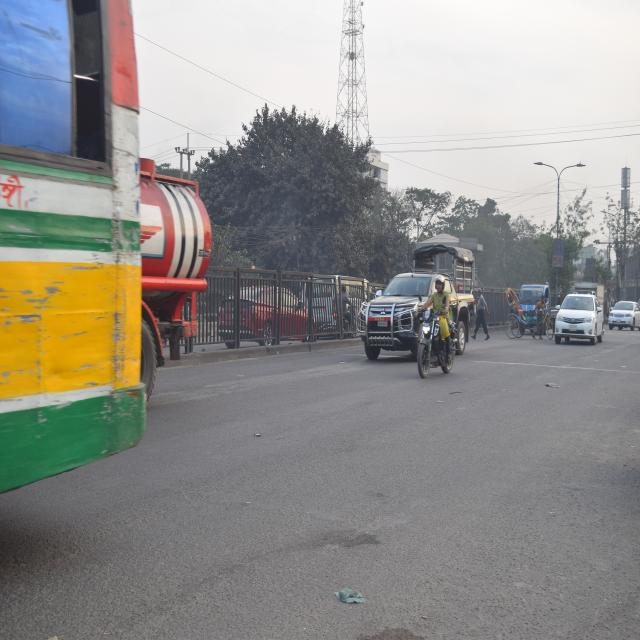bus: (0, 0, 143, 527)
car: (551, 290, 604, 346), (608, 297, 640, 335)
motorbike: (410, 294, 458, 387)
pickup-van: (354, 239, 478, 368)
truck: (138, 157, 218, 407)
